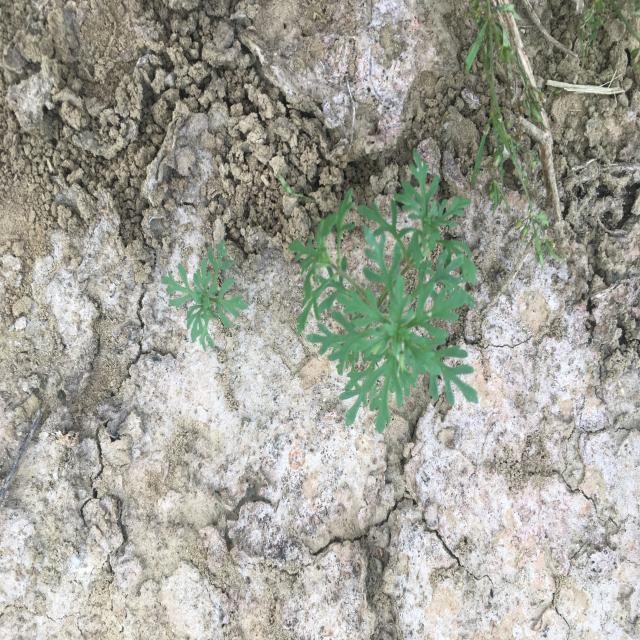Ragweed: (286, 146, 481, 436), (159, 234, 249, 356)
